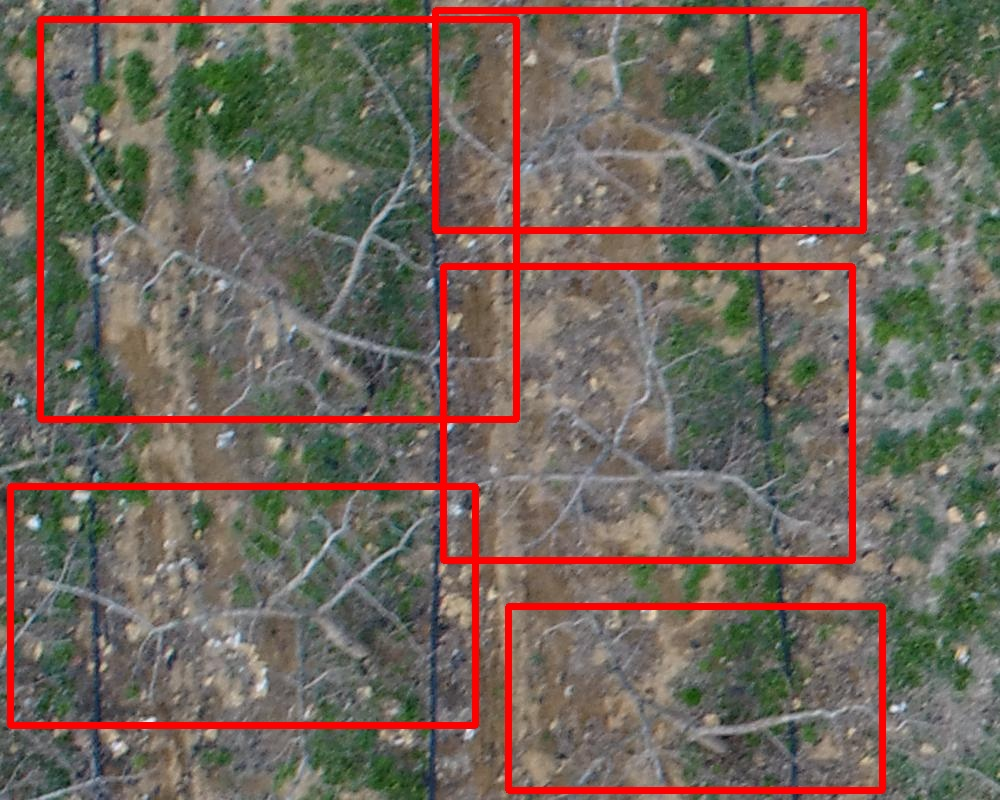apple: (40, 19, 516, 419), (443, 266, 852, 560), (10, 486, 475, 725), (435, 10, 863, 230), (508, 606, 882, 790)
